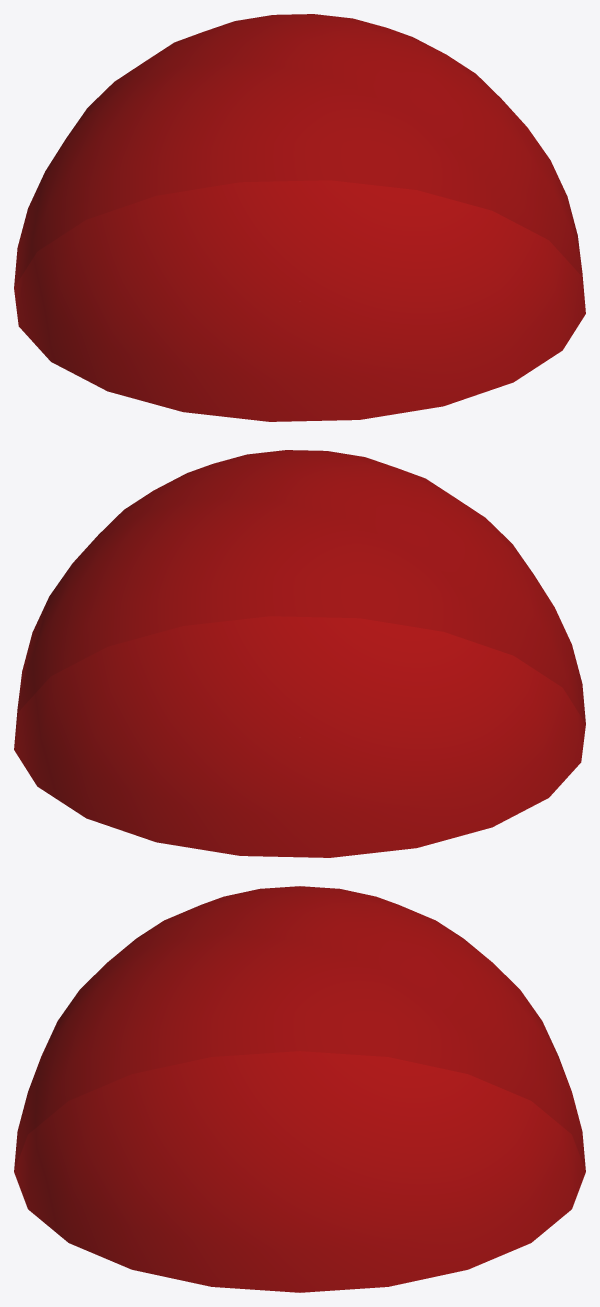
The model's file is Metal_Detector_Light.fbx.
The picture shows the model from 3 angles, top to bottom: view 1: azimuth 30°, elevation 25°; view 2: azimuth 150°, elevation 25°; view 3: azimuth 270°, elevation 25°; orthographic projection.
Visible parts, largest first — view 1: pSphere3; view 2: pSphere3; view 3: pSphere3.
Boxes of the visible parts, left/top/right/bottom form: pSphere3: left=14, top=14, right=585, bottom=421; pSphere3: left=14, top=450, right=585, bottom=857; pSphere3: left=14, top=886, right=585, bottom=1292.
Bounding box in the file's own units: 2.63 × 1.32 × 2.63.
